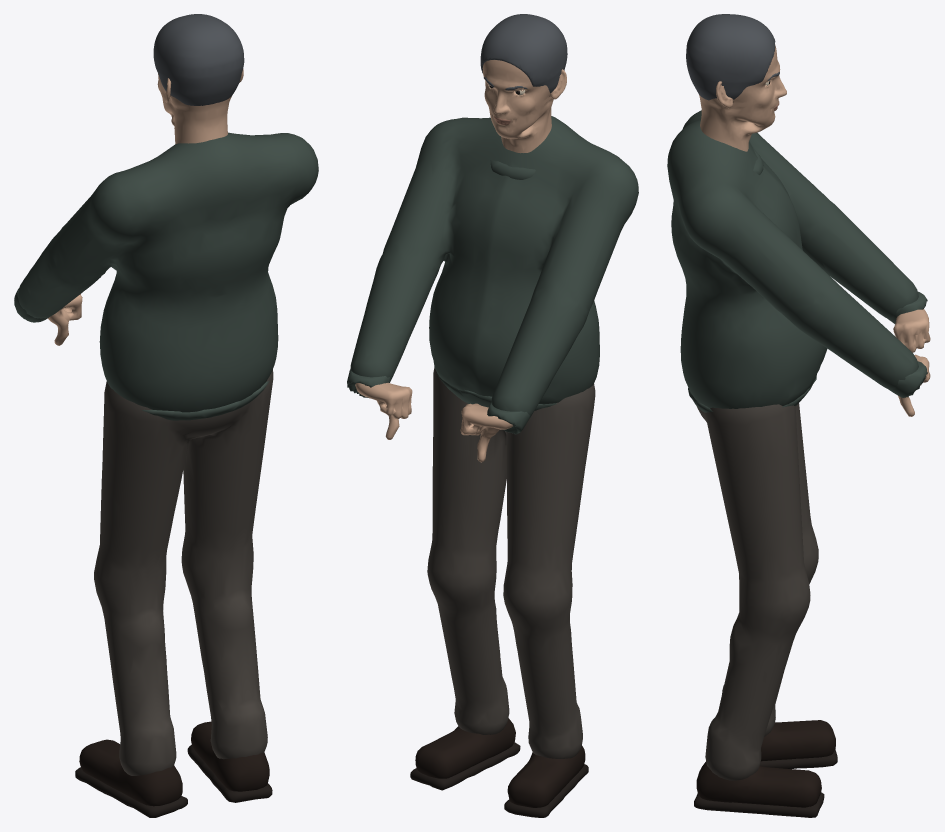
Rendered from preacher_chair.glb.
The picture shows the model from 3 angles, left to right: view 1: azimuth 30°, elevation 25°; view 2: azimuth 150°, elevation 25°; view 3: azimuth 270°, elevation 25°; orthographic projection. The views are drawn at different scales.
Visible parts, largest first — view 1: preacher_chair_body, preacher_chair_head, preacher_chair_hands; view 2: preacher_chair_body, preacher_chair_head, preacher_chair_hands; view 3: preacher_chair_body, preacher_chair_head, preacher_chair_hands.
Boxes of the visible parts, bbox=[...] form: preacher_chair_body: bbox=[17, 132, 318, 817]; preacher_chair_head: bbox=[153, 14, 244, 144]; preacher_chair_hands: bbox=[14, 288, 82, 345]; preacher_chair_body: bbox=[350, 116, 638, 817]; preacher_chair_head: bbox=[480, 14, 567, 153]; preacher_chair_hands: bbox=[347, 369, 531, 462]; preacher_chair_body: bbox=[667, 110, 918, 817]; preacher_chair_head: bbox=[686, 14, 786, 151]; preacher_chair_hands: bbox=[887, 291, 930, 416].
Bounding box in the file's own units: 0.5164 × 1.77 × 0.5523.
